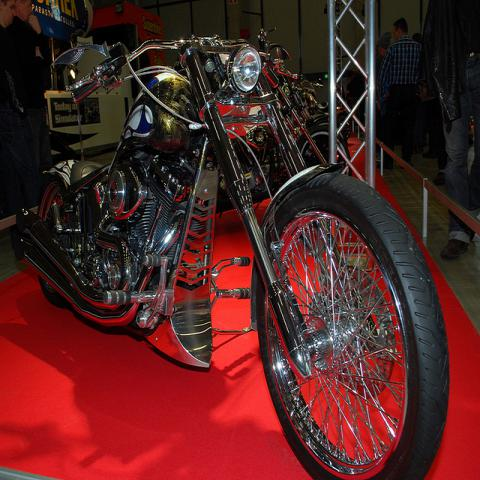motorcycle: (11, 27, 449, 472)
